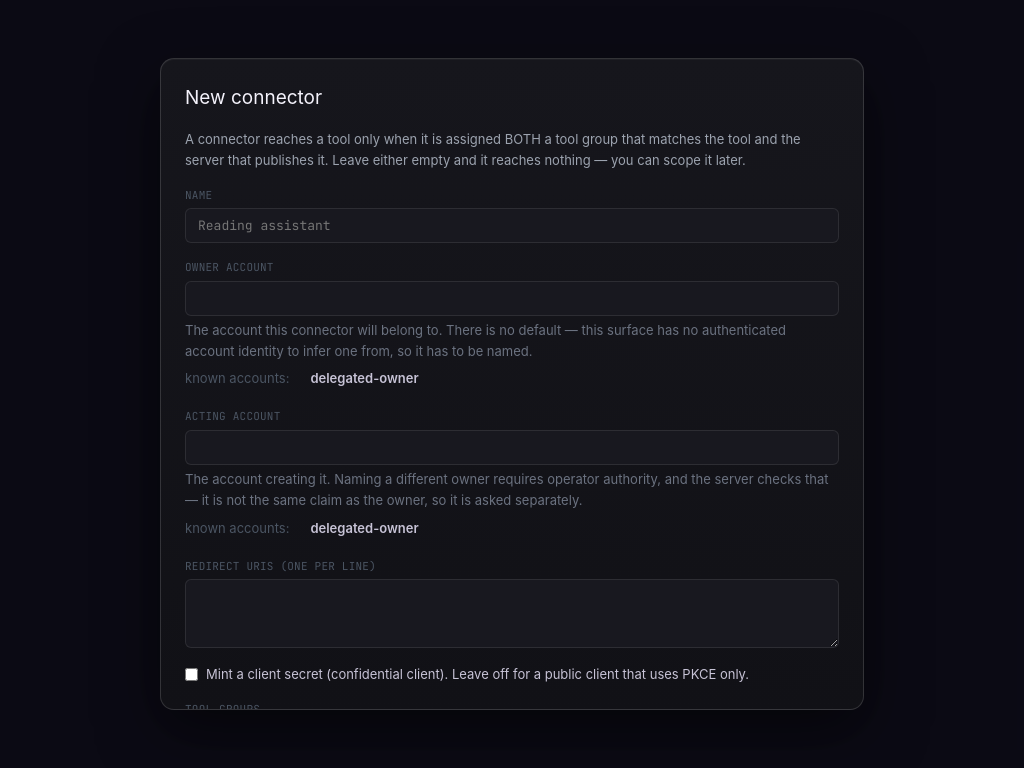
Test: TERM-647: creating a connector names its owner › does NOT preselect a sole candidate — one option is still a choice to make
Expected: the field labelled "owner account" is empty, [185,281,839,316]
Click the button "delegated-owner" below "owner account": (364, 379) [297,365,432,392]
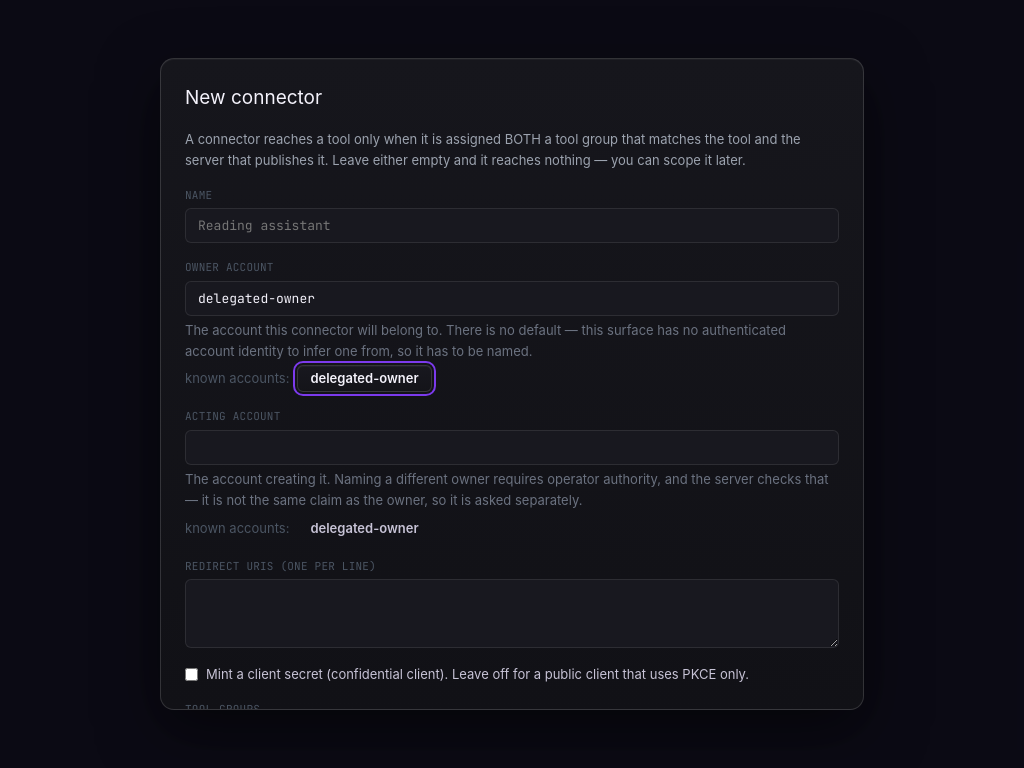
Expected: the field labelled "acting account" is empty, [185,430,839,465]
Expected: the field labelled "owner account" holds "delegated-owner", [185,281,839,316]
